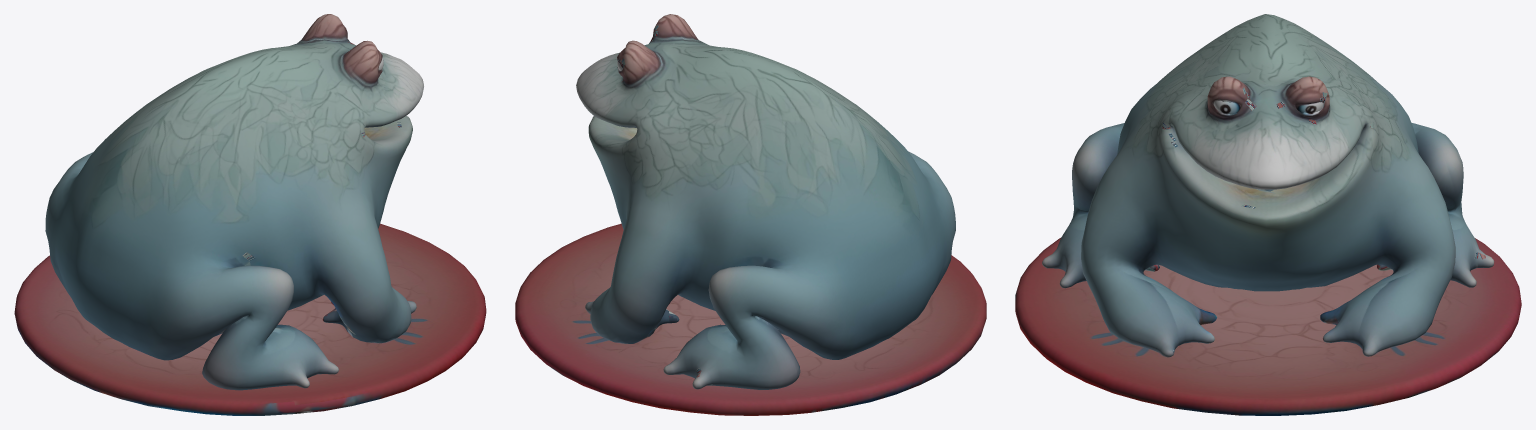
File: frogtexutre.fbx
3 views of the same model, side by side, from view 1: azimuth 30°, elevation 25°; view 2: azimuth 150°, elevation 25°; view 3: azimuth 270°, elevation 25° (orthographic). The views are drawn at different scales.
Parts seen in each view (by area): view 1: sa_002_0, BezierCircle_Mesh_0; view 2: sa_002_0, BezierCircle_Mesh_0; view 3: sa_002_0, BezierCircle_Mesh_0, Sphere_0.
Part boxes in pixels (left/top/right/bottom): sa_002_0: left=45, top=14, right=423, bottom=390; BezierCircle_Mesh_0: left=14, top=223, right=486, bottom=415; sa_002_0: left=576, top=14, right=955, bottom=389; BezierCircle_Mesh_0: left=515, top=223, right=986, bottom=415; sa_002_0: left=1042, top=14, right=1494, bottom=357; BezierCircle_Mesh_0: left=1015, top=237, right=1521, bottom=415; Sphere_0: left=1214, top=100, right=1323, bottom=114.
Size of the model in its own units: 99.79 by 61.99 by 99.79.
Materials: 1 (1 with a texture image).
